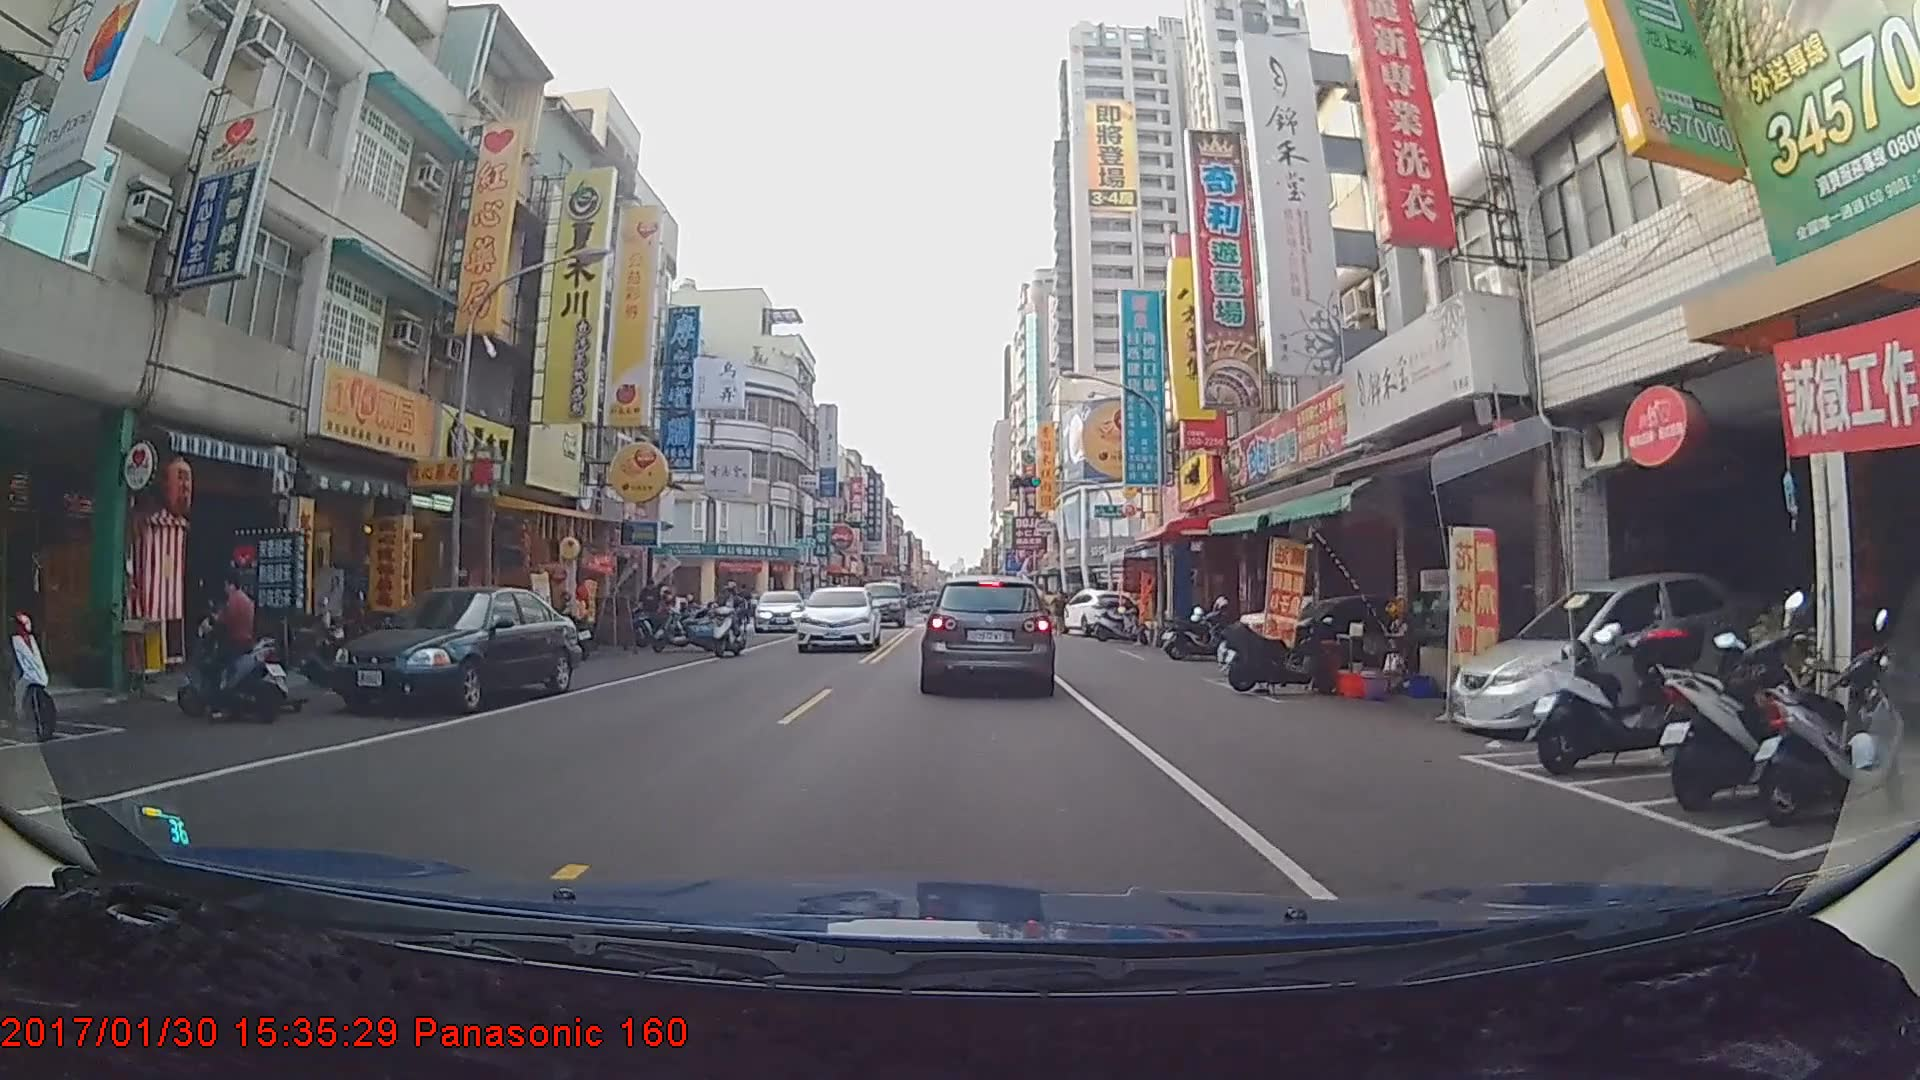pedestrian: (1050, 587, 1070, 637)
rider: (178, 565, 296, 726), (705, 582, 754, 660)
vehicle: (328, 583, 580, 709), (921, 574, 1055, 692), (794, 576, 878, 646), (1057, 583, 1143, 635), (855, 576, 905, 624), (753, 589, 805, 633)
